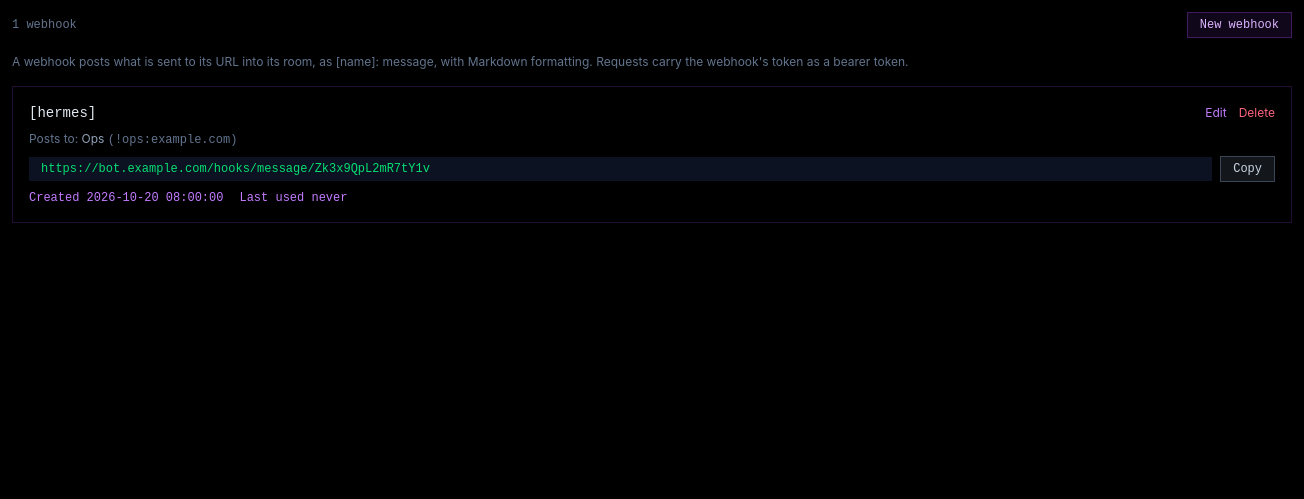
WebhooksCard › editing › should send a new token, and then show it once
Click the button "Edit". click: [1216, 113]
box: [1205, 105, 1227, 121]
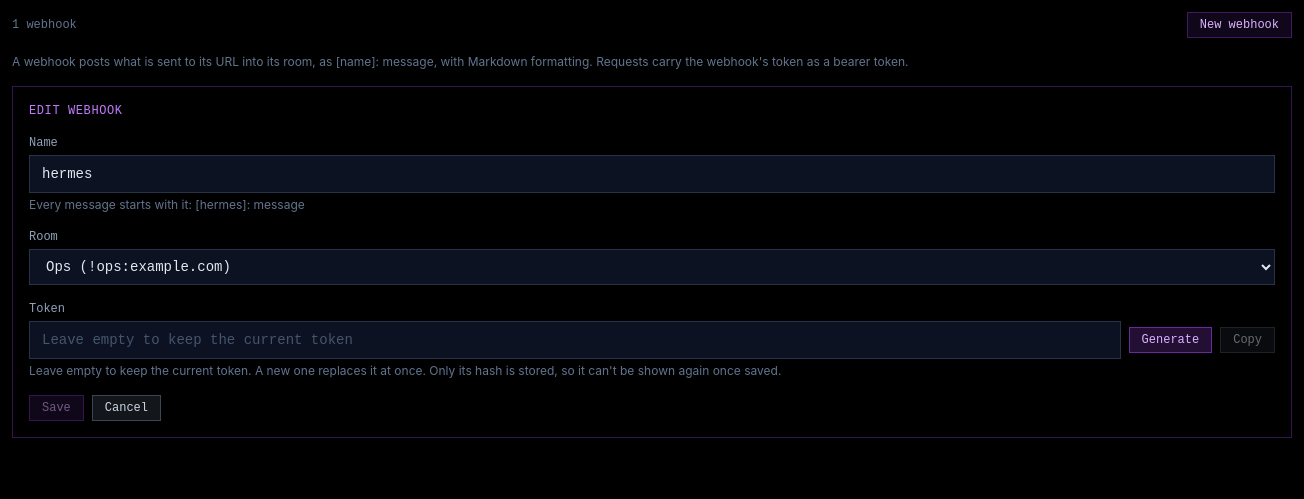
Type "a-brand-new-token-456" into the field labelled "Token". click: [575, 340]
box: [29, 321, 1121, 359]
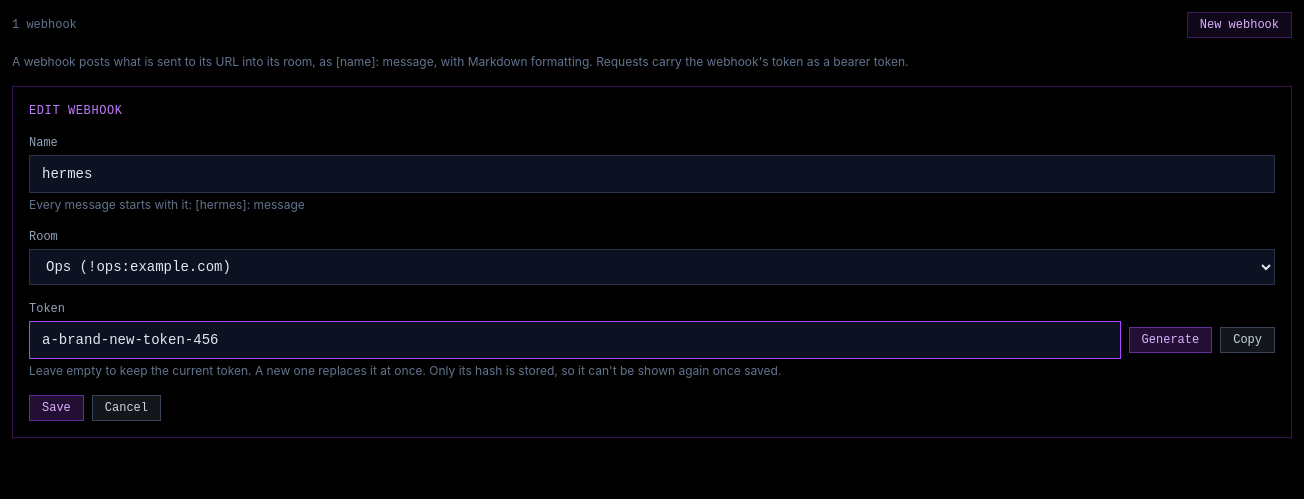
Click the button "Save". click: [56, 408]
box: [29, 395, 84, 421]
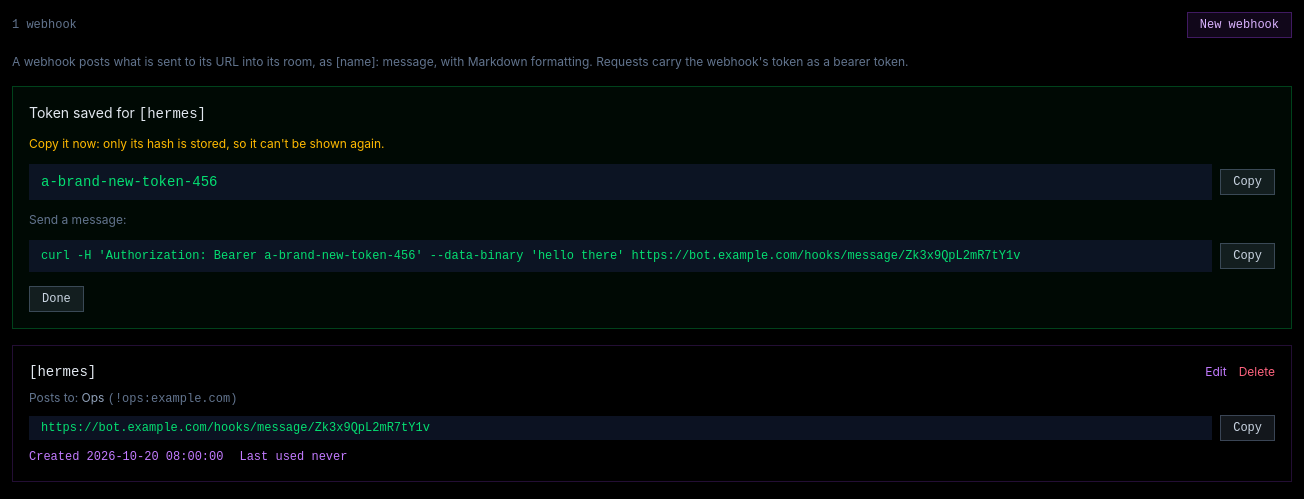
Check: the text "a-brand-new-token-456" is shown, box [29, 164, 1212, 200]
Check: the text "can't be shown again" is shown, box [29, 136, 384, 151]
